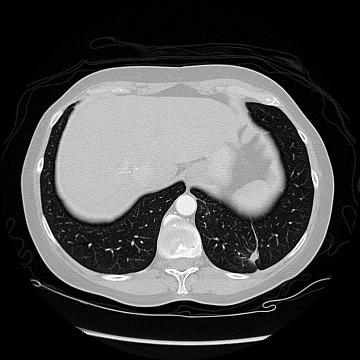nodule: (246, 248, 262, 264)
